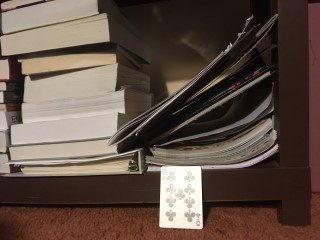NineOfClubs: (158, 165, 204, 229)
